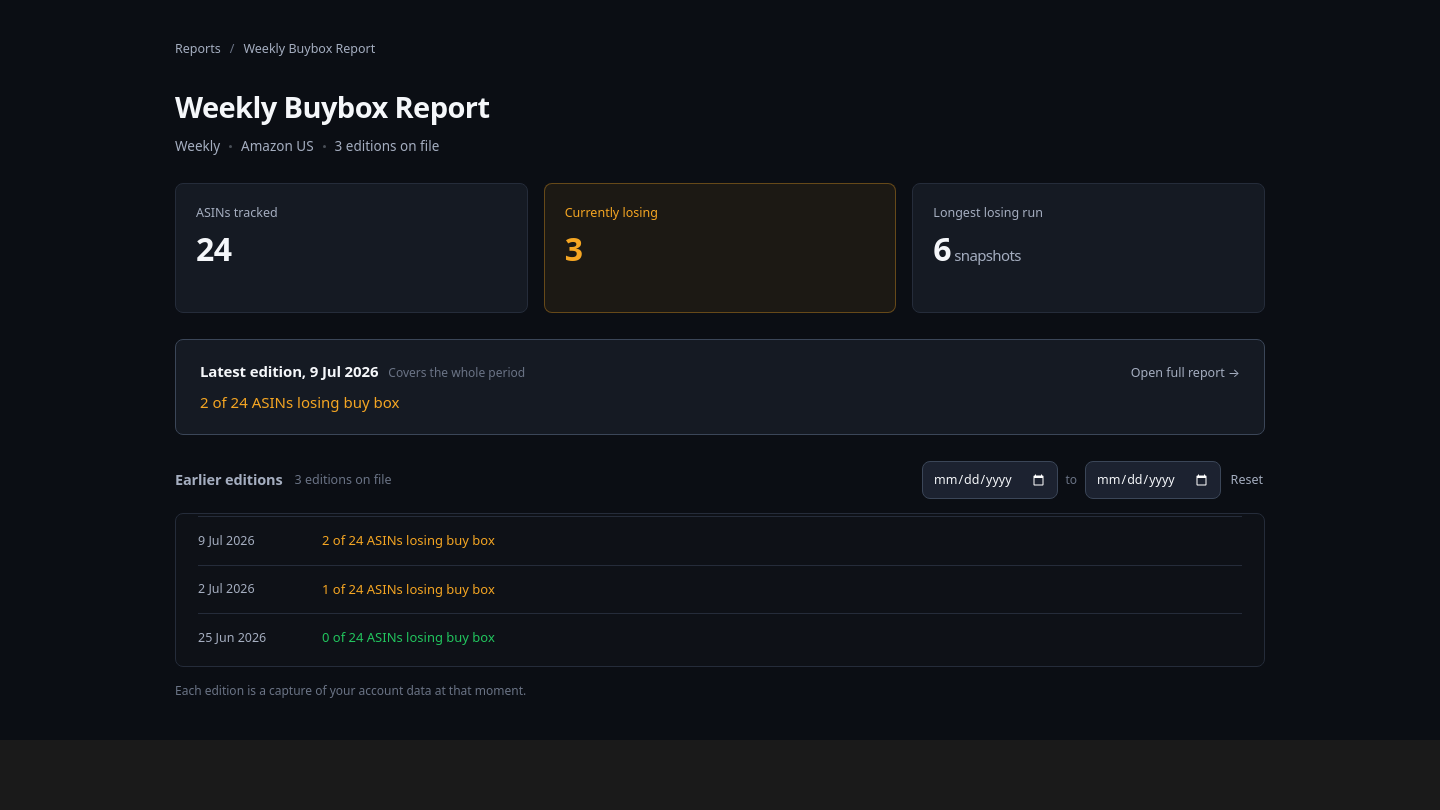
Test: ESF Report History page › says so when a range matches nothing
Expected: the text "9 Jul 2026" is shown, [198,532,255,549]
Type "2027-01-01" into the date field named "Editions from" at {"x": 990, "y": 480}, box [922,460,1058,499]
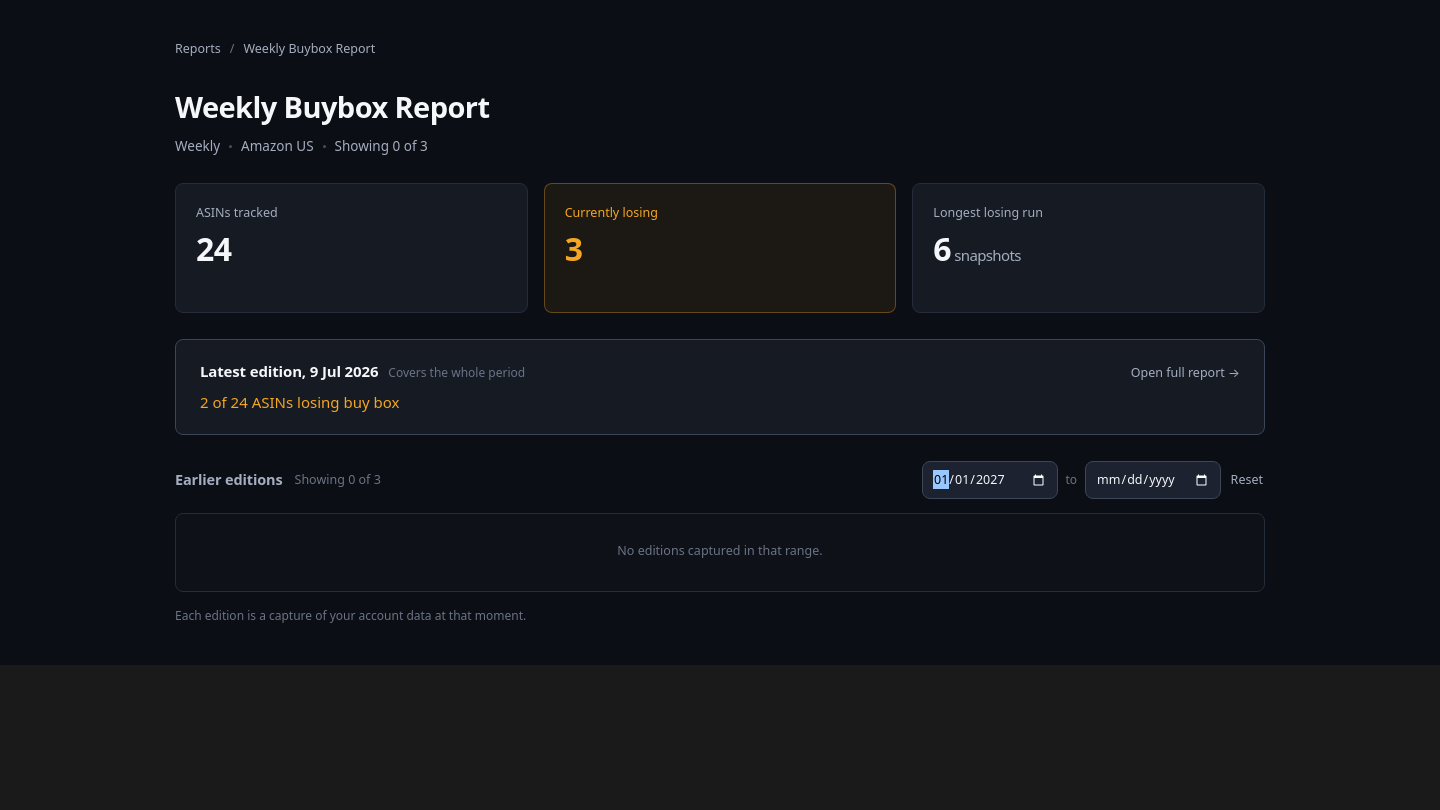
Now the text "No editions captured in that range." is shown, box [617,542,823,559]
